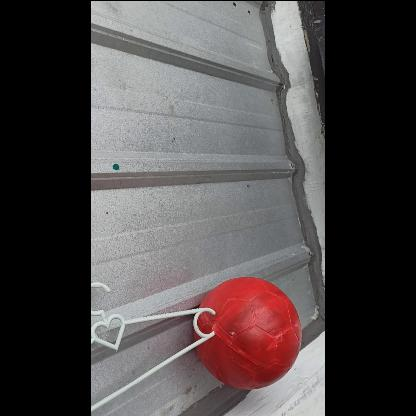red_ball: (193, 276, 303, 386)
